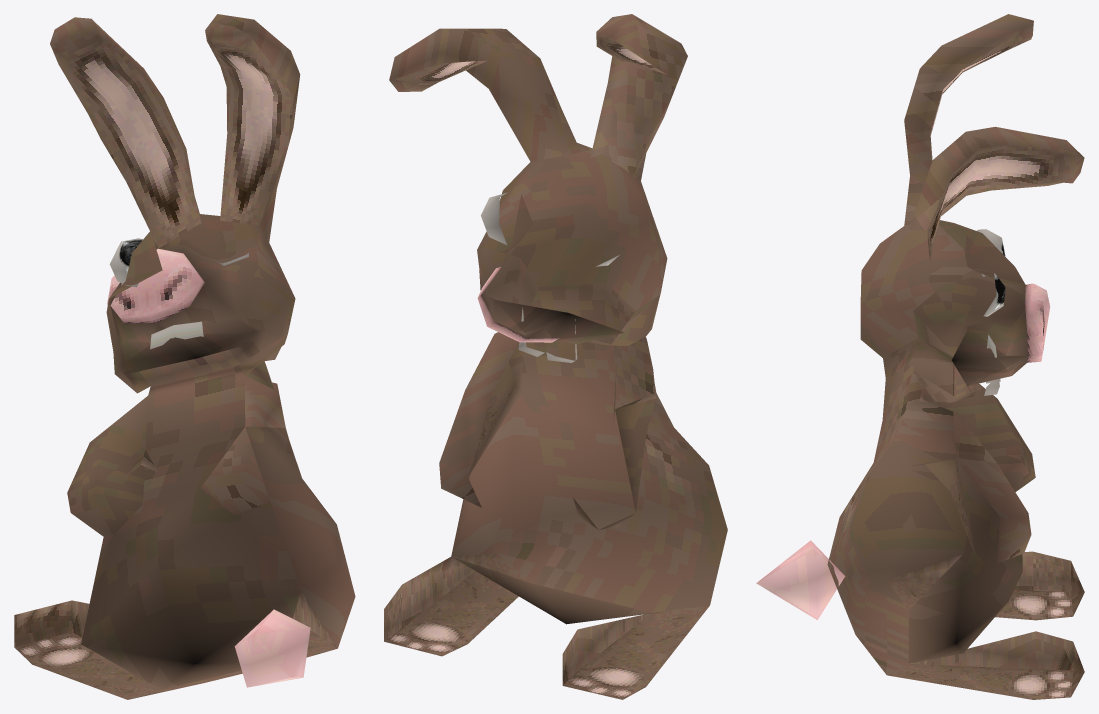
Rendered from ps2_save-icons_wallaceandgromitthecurseofthewererabbit.glb.
The picture shows the model from 3 angles, left to right: view 1: azimuth 30°, elevation 25°; view 2: azimuth 150°, elevation 25°; view 3: azimuth 270°, elevation 25°; orthographic projection. The views are drawn at different scales.
Parts seen in each view (by area): view 1: rabbit.ico; view 2: rabbit.ico; view 3: rabbit.ico.
Part boxes in pixels (x1,y1,x2,y2): rabbit.ico: (14, 14, 355, 699); rabbit.ico: (384, 14, 727, 699); rabbit.ico: (756, 14, 1084, 699).
Size of the model in its own units: 1.8 by 4.58 by 2.3.
1 material, 1 textured.
